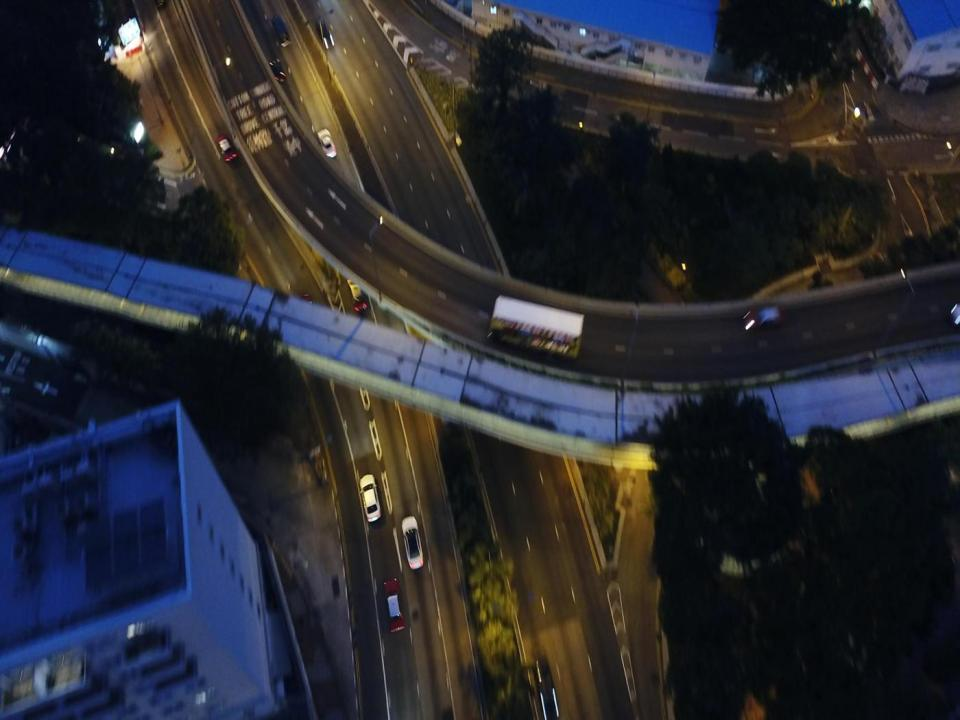bus: (491, 295, 584, 358)
car: (536, 657, 563, 719), (402, 516, 424, 569), (384, 579, 404, 633), (744, 306, 785, 332), (359, 474, 380, 522), (215, 132, 237, 162), (346, 278, 364, 312), (271, 14, 290, 46), (317, 129, 336, 159), (316, 20, 334, 47), (269, 57, 286, 81)
